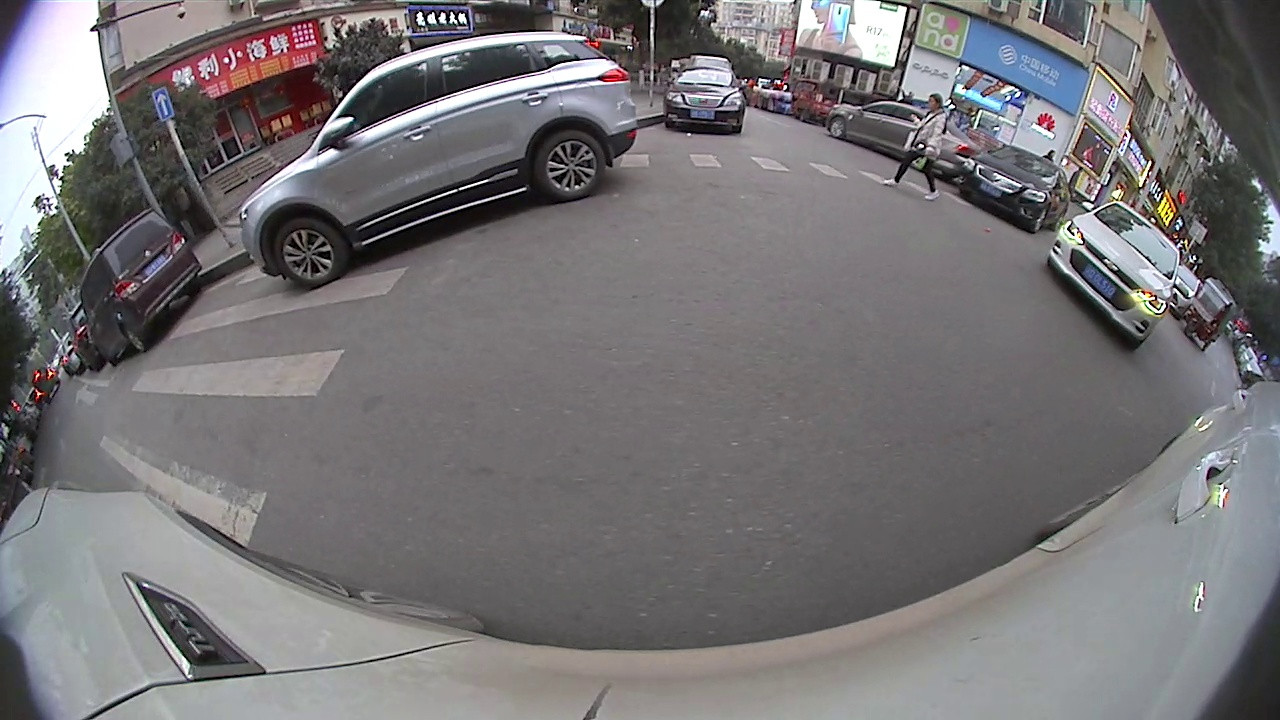car: (235, 27, 641, 292), (1041, 195, 1196, 356), (75, 206, 204, 369), (822, 99, 978, 168), (955, 143, 1076, 231), (661, 63, 747, 136)
front: (273, 217, 347, 286), (828, 116, 846, 139)
person: (921, 90, 949, 201)
rear: (533, 133, 611, 199)
rider: (1177, 272, 1236, 356)
